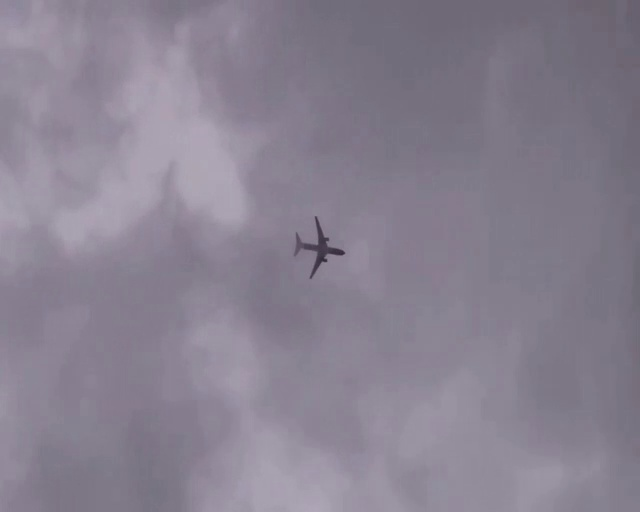AIRPLANE: (293, 215, 345, 278)
